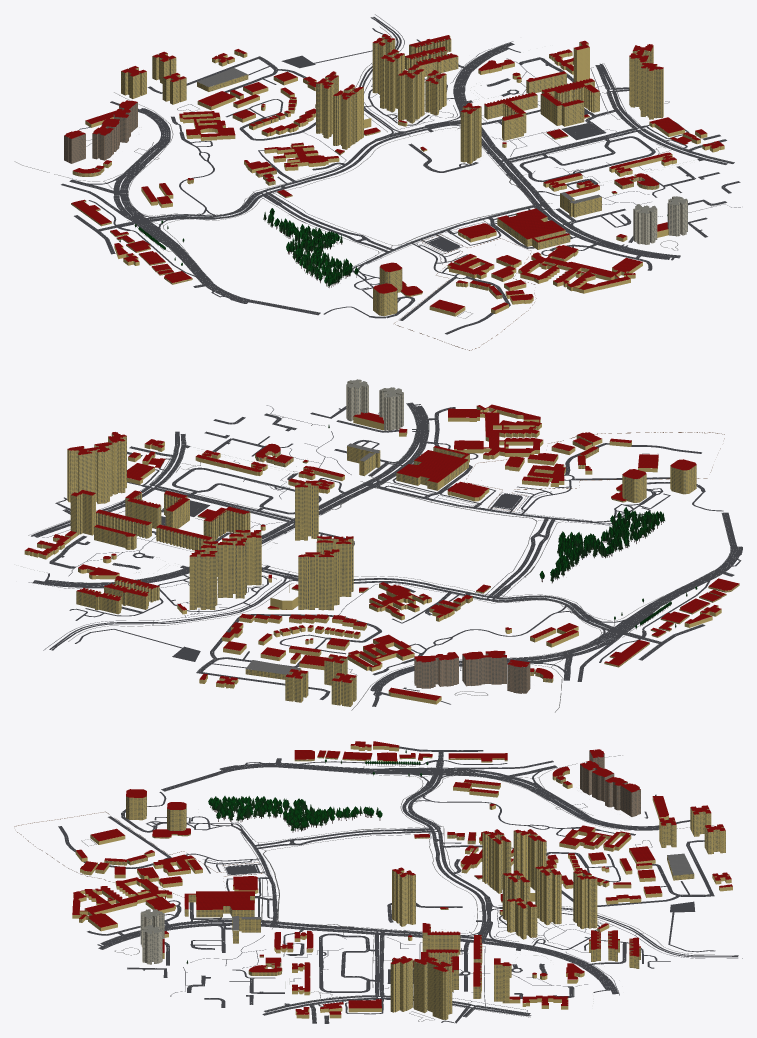
Rendered from osm3d.glb.
3 renders of one model, top to bottom at view 1: azimuth 30°, elevation 25°; view 2: azimuth 150°, elevation 25°; view 3: azimuth 270°, elevation 25°, orthographic. The views are drawn at different scales.
Parts seen in each view (by area): view 1: Plaster002, ASPHALT, RoofingTiles010, Windows, TextureAtlas 79124347, Concrete034, Plaster002.001, Plaster002.002, Windows.001, Windows.002; view 2: Plaster002, ASPHALT, RoofingTiles010, Windows, TextureAtlas 79124347, Plaster002.001, Concrete034, Windows.001, Plaster002.002, Windows.002; view 3: Plaster002, ASPHALT, RoofingTiles010, Windows, TextureAtlas 79124347, Concrete034, Plaster002.001, Plaster002.002, Windows.001, Windows.002.
Boxes of the visible parts, x1,y1,x2,y2 form: Plaster002: [71, 35, 724, 316]; ASPHALT: [61, 14, 740, 334]; RoofingTiles010: [64, 34, 723, 312]; Windows: [71, 36, 662, 315]; TextureAtlas 79124347: [119, 208, 667, 287]; Concrete034: [14, 27, 712, 318]; Plaster002.001: [64, 102, 137, 163]; Plaster002.002: [633, 197, 687, 244]; Windows.001: [64, 103, 136, 162]; Windows.002: [634, 197, 687, 244]; Plaster002: [24, 406, 739, 706]; ASPHALT: [28, 402, 742, 706]; RoofingTiles010: [25, 404, 739, 700]; Windows: [68, 434, 737, 706]; TextureAtlas 79124347: [328, 425, 697, 629]; Plaster002.001: [414, 653, 530, 693]; Concrete034: [28, 412, 663, 712]; Windows.001: [414, 654, 530, 693]; Plaster002.002: [346, 380, 403, 430]; Windows.002: [347, 381, 403, 430]; Plaster002: [72, 743, 732, 1019]; ASPHALT: [58, 746, 742, 1023]; RoofingTiles010: [72, 741, 732, 1014]; Windows: [104, 753, 725, 1019]; TextureAtlas 79124347: [186, 749, 428, 963]; Concrete034: [81, 755, 714, 1021]; Plaster002.001: [580, 750, 640, 816]; Plaster002.002: [140, 913, 164, 964]; Windows.001: [581, 751, 640, 816]; Windows.002: [141, 914, 164, 964].
Size of the model in its own units: 1211 by 100 by 1336.
24 materials, 23 textured.
